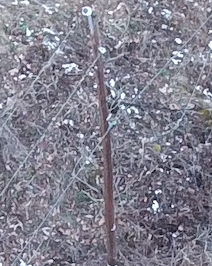pole: (65, 6, 141, 260)
